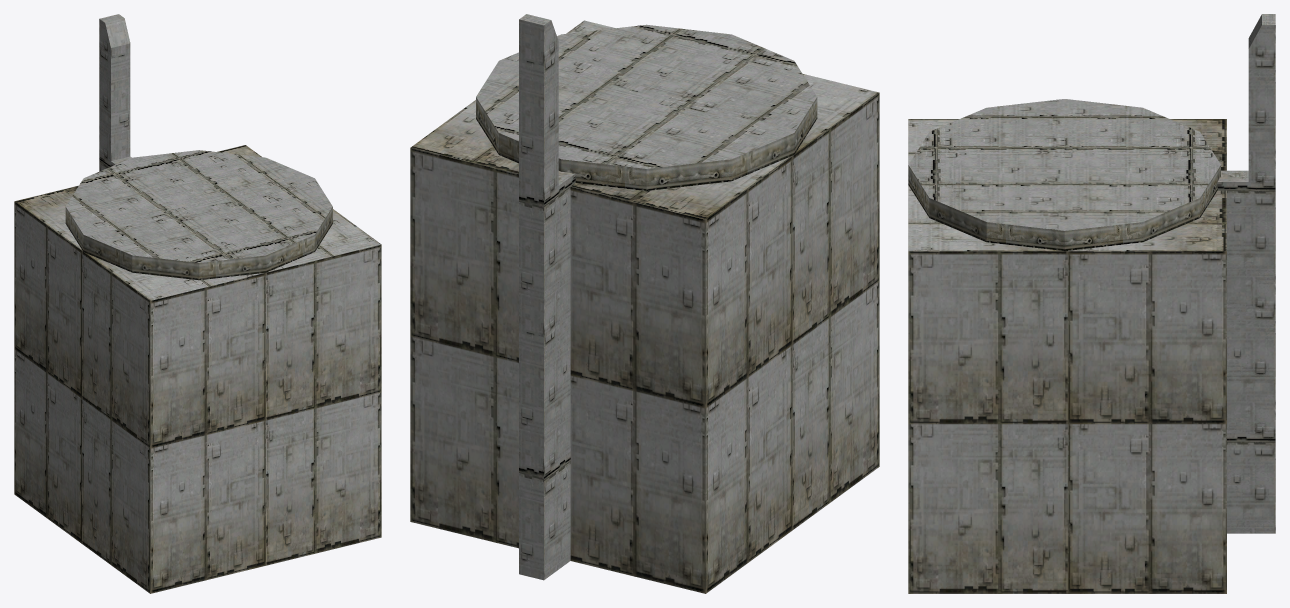
The model's file is ins_all_def_turret_lg_s03_l0.fbx.
3 renders of one model, left to right at view 1: azimuth 30°, elevation 25°; view 2: azimuth 150°, elevation 25°; view 3: azimuth 270°, elevation 25°, orthographic. The views are drawn at different scales.
Parts seen in each view (by area): view 1: mesh_node; view 2: mesh_node; view 3: mesh_node.
Boxes of the visible parts, box(x1,y1,x2,y2) form: mesh_node: box(14, 14, 381, 593); mesh_node: box(410, 14, 879, 593); mesh_node: box(908, 14, 1275, 593).
Size of the model in its own units: 2.89 by 5.19 by 3.39.
